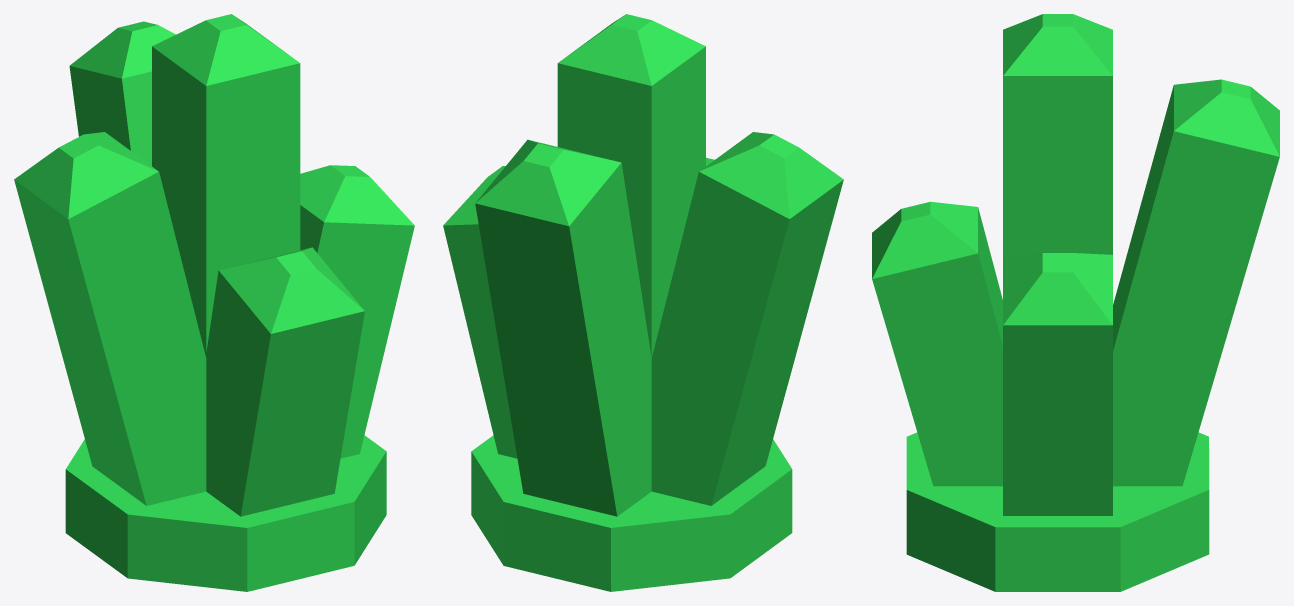
The model's file is lego_crystall.glb.
The picture shows the model from 3 angles, left to right: view 1: azimuth 30°, elevation 25°; view 2: azimuth 150°, elevation 25°; view 3: azimuth 270°, elevation 25°; orthographic projection.
Visible parts, largest first — view 1: Crystall; view 2: Crystall; view 3: Crystall.
Part boxes in pixels (x1,y1,x2,y2): Crystall: [14, 14, 414, 591]; Crystall: [443, 14, 843, 591]; Crystall: [872, 14, 1279, 591].
Size of the model in its own units: 1.48 by 2.04 by 1.49.
